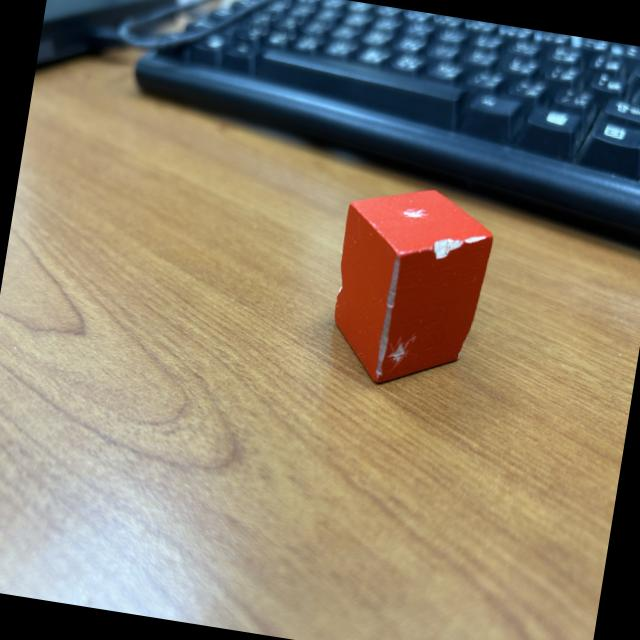broken: (320, 175, 500, 398)
